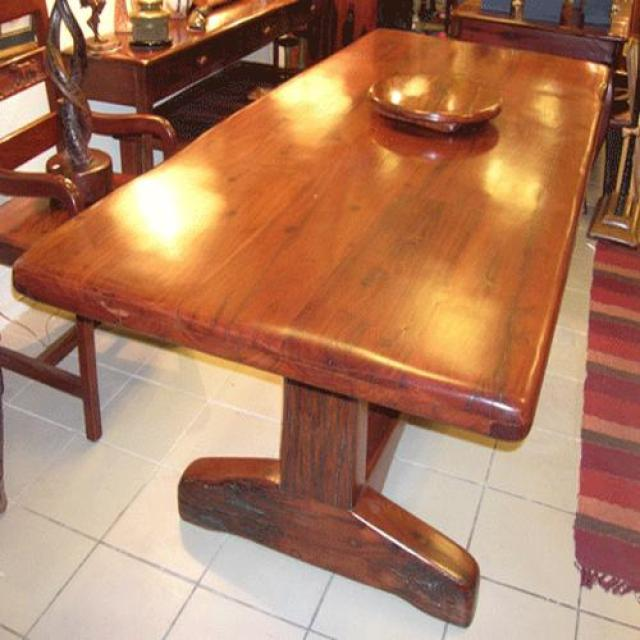table: (12, 29, 612, 630)
